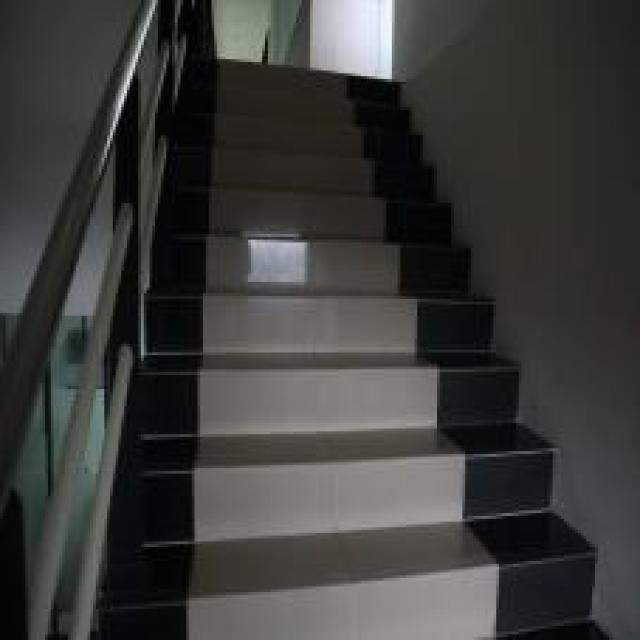upstair: (170, 227, 449, 610)
